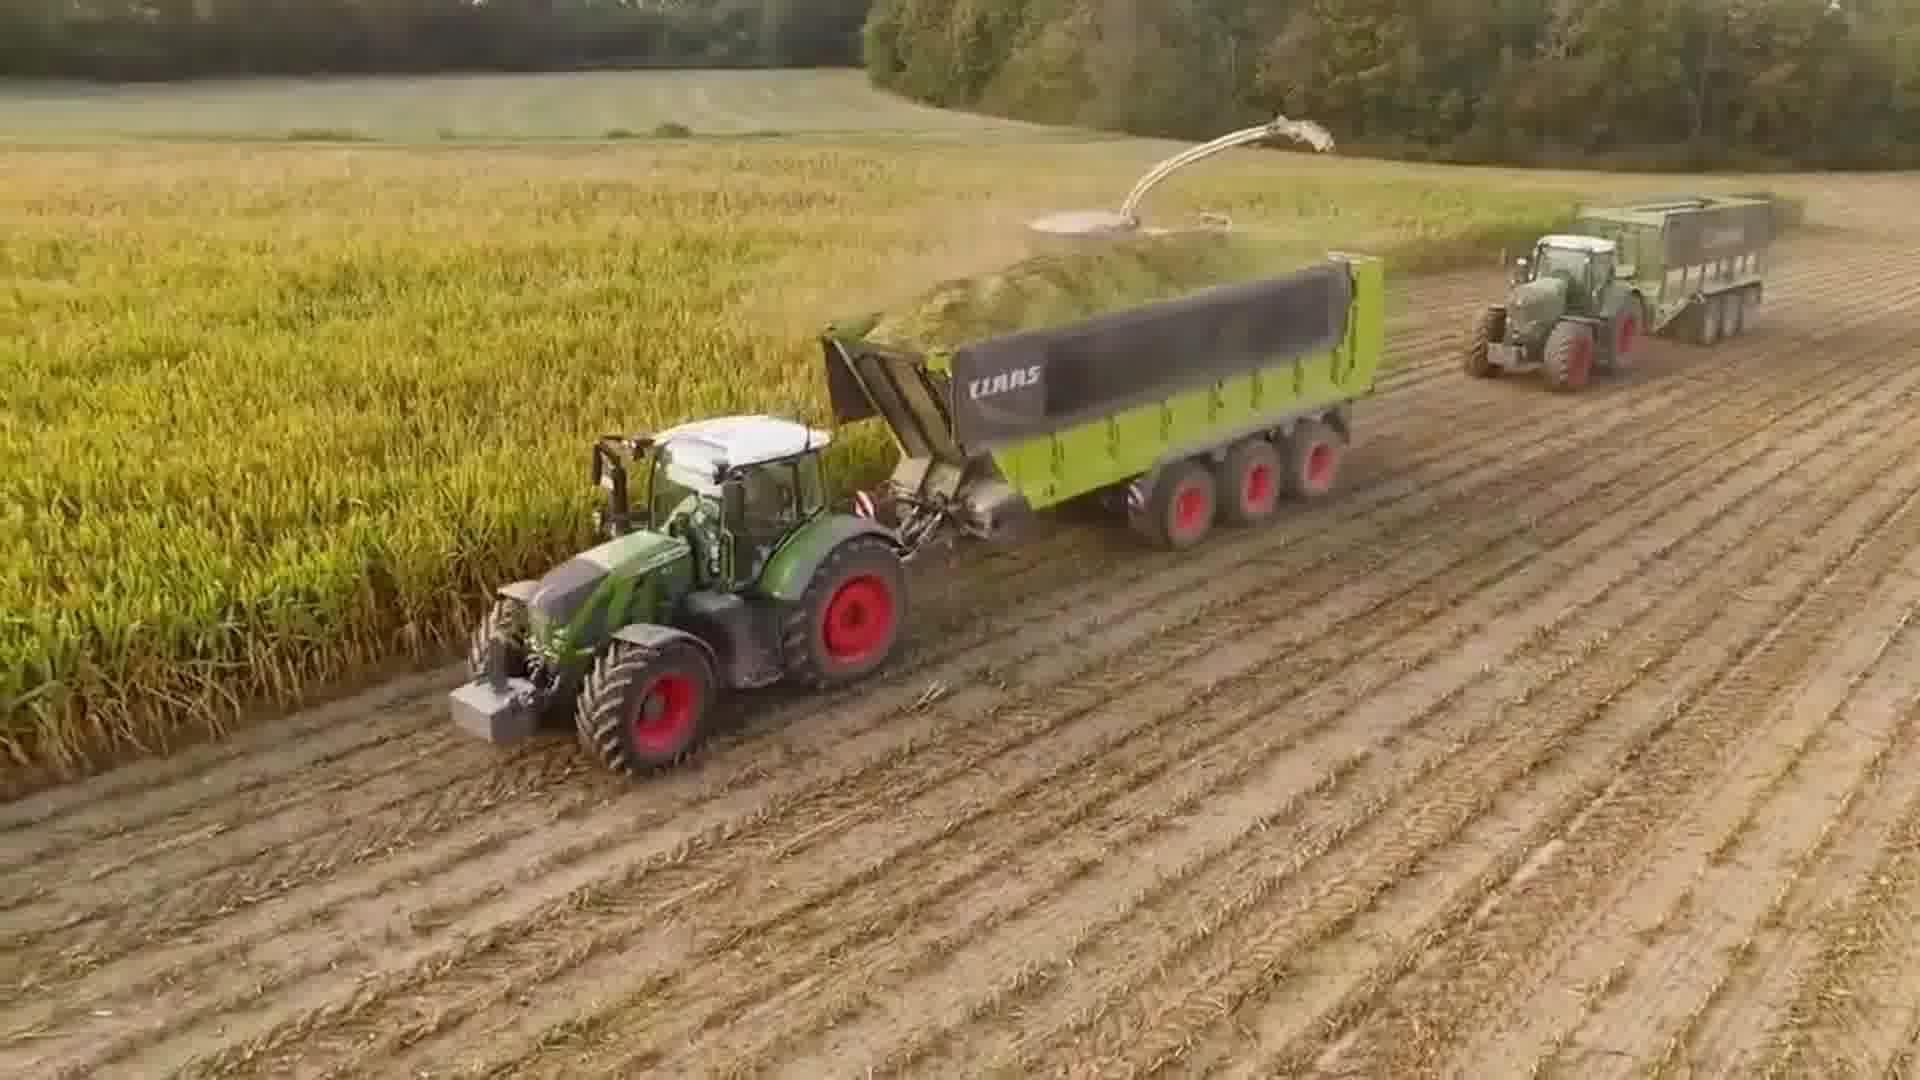combine harvester: (1014, 108, 1337, 258)
tractor: (447, 406, 913, 777), (1462, 227, 1652, 397)
trailer: (811, 225, 1393, 564), (1567, 185, 1778, 349)
